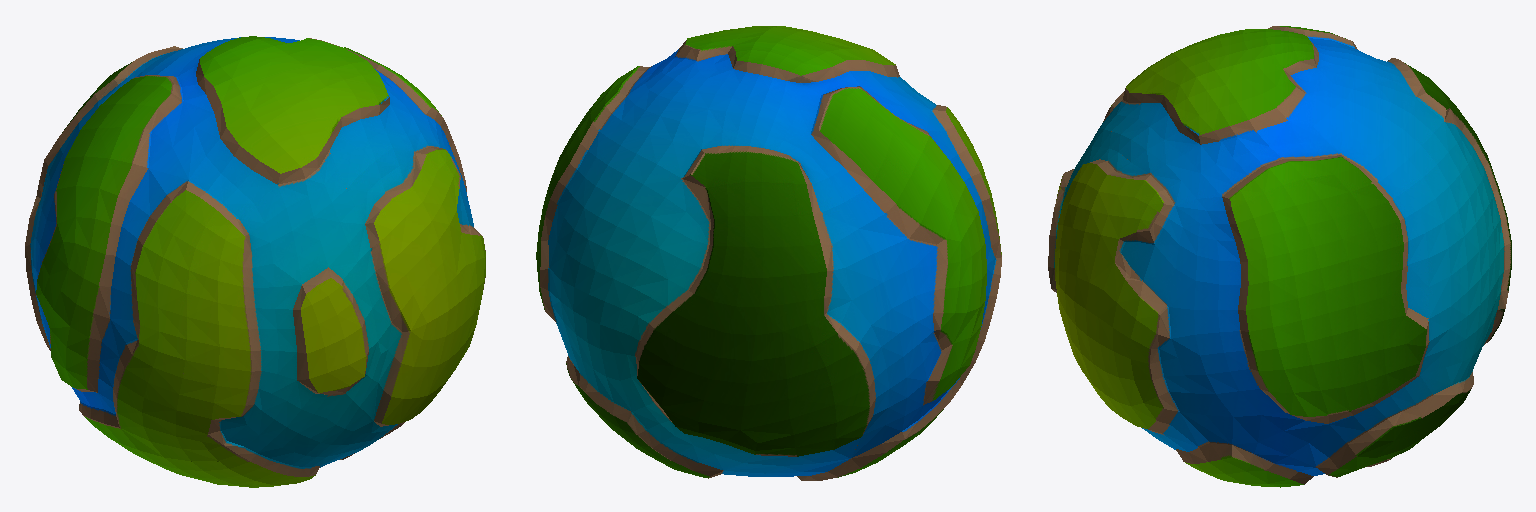
3 renders of one model, left to right at view 1: azimuth 30°, elevation 25°; view 2: azimuth 150°, elevation 25°; view 3: azimuth 270°, elevation 25°, orthographic.
Visible parts, largest first — view 1: Earth; view 2: Earth; view 3: Earth.
Part boxes in pixels (left/top/right/bottom): Earth: left=25, top=36, right=485, bottom=487; Earth: left=536, top=26, right=1001, bottom=480; Earth: left=1048, top=26, right=1511, bottom=487.
Bounding box in the file's own units: 140 × 140 × 140.
1 materials, 1 textured.